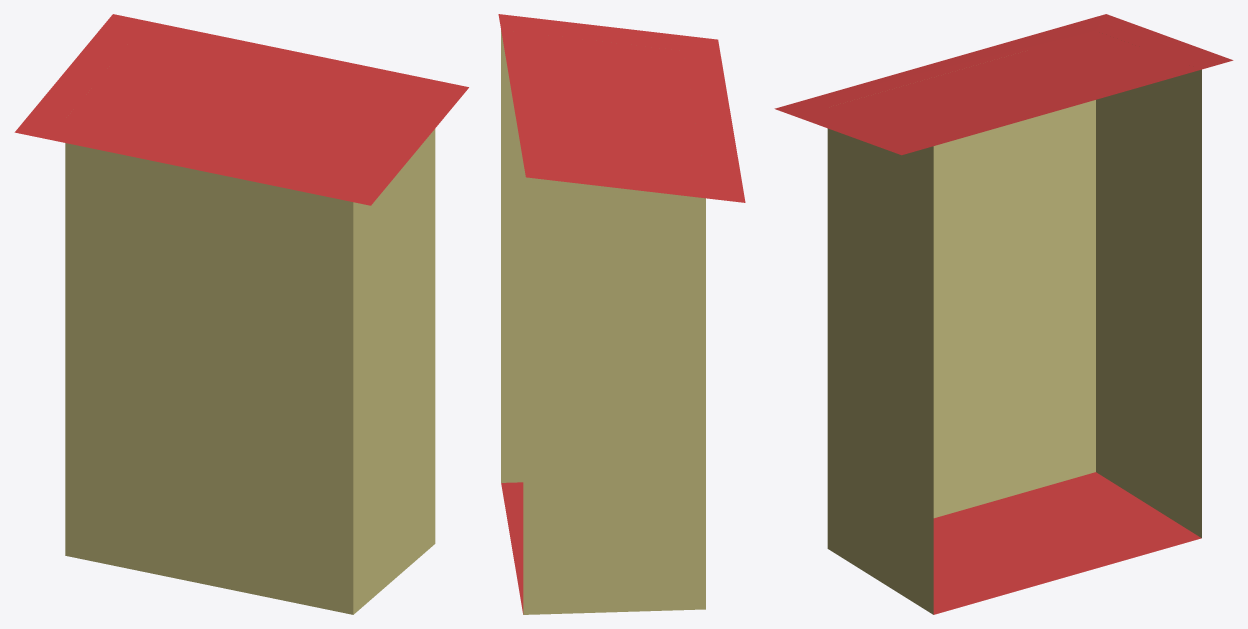
3 renders of one model, left to right at view 1: azimuth 30°, elevation 25°; view 2: azimuth 150°, elevation 25°; view 3: azimuth 270°, elevation 25°, orthographic. The views are drawn at different scales.
Bounding box in the file's own units: 5.36 × 5.97 × 6.71.
